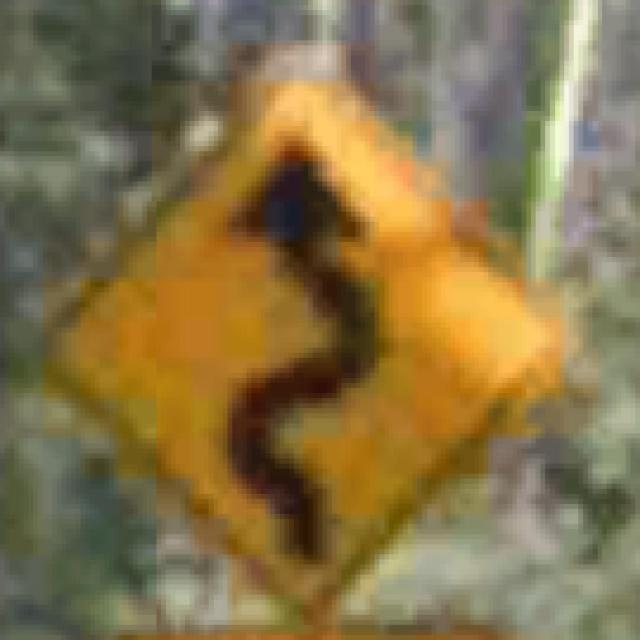Banyak Tikungan Pertama Kiri: (28, 55, 569, 620)
